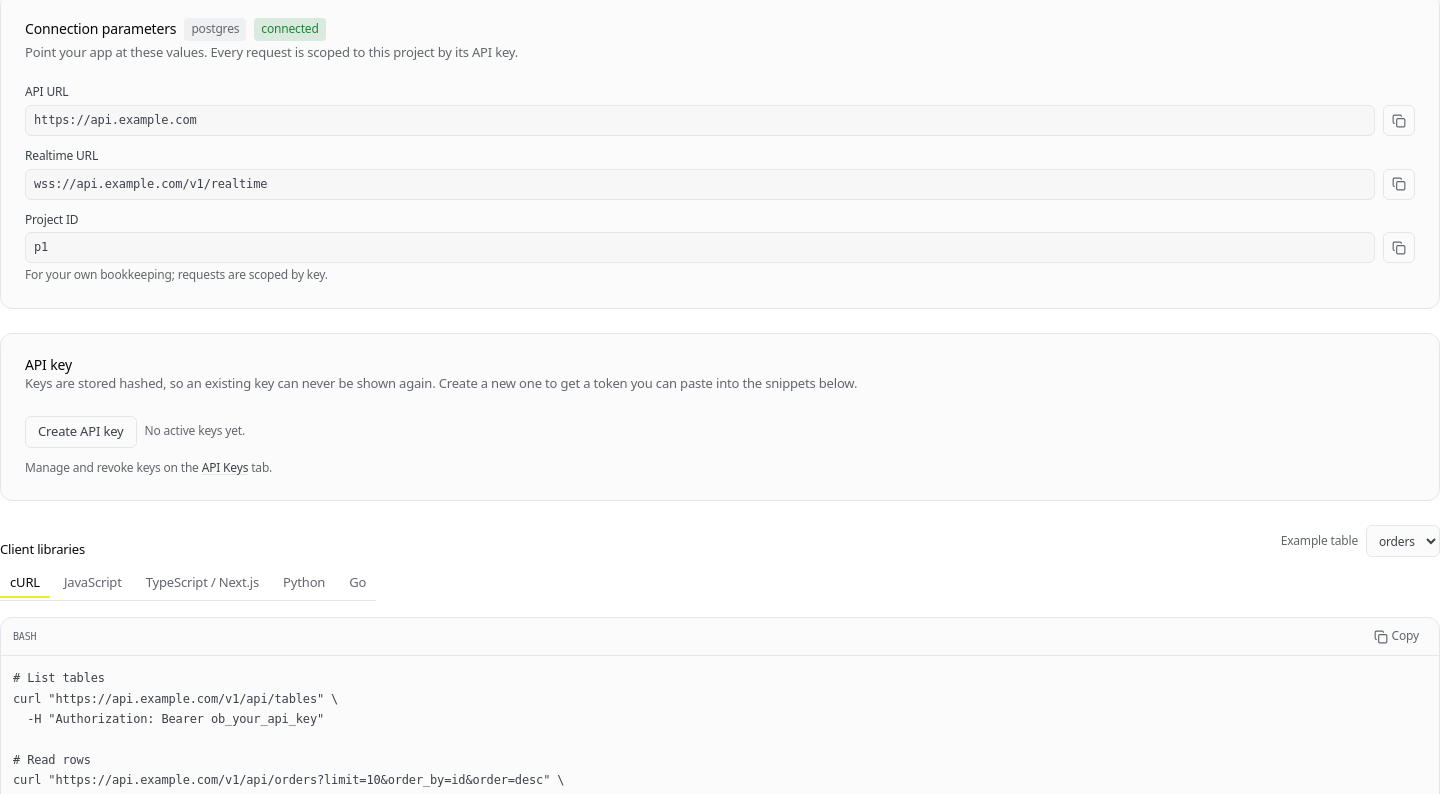
ConnectPanel › lets the user pick which table the snippets use
Select "users" in the dropdown labelled "Example table": (1403, 541) [1366, 525, 1439, 557]
(page scrolled)
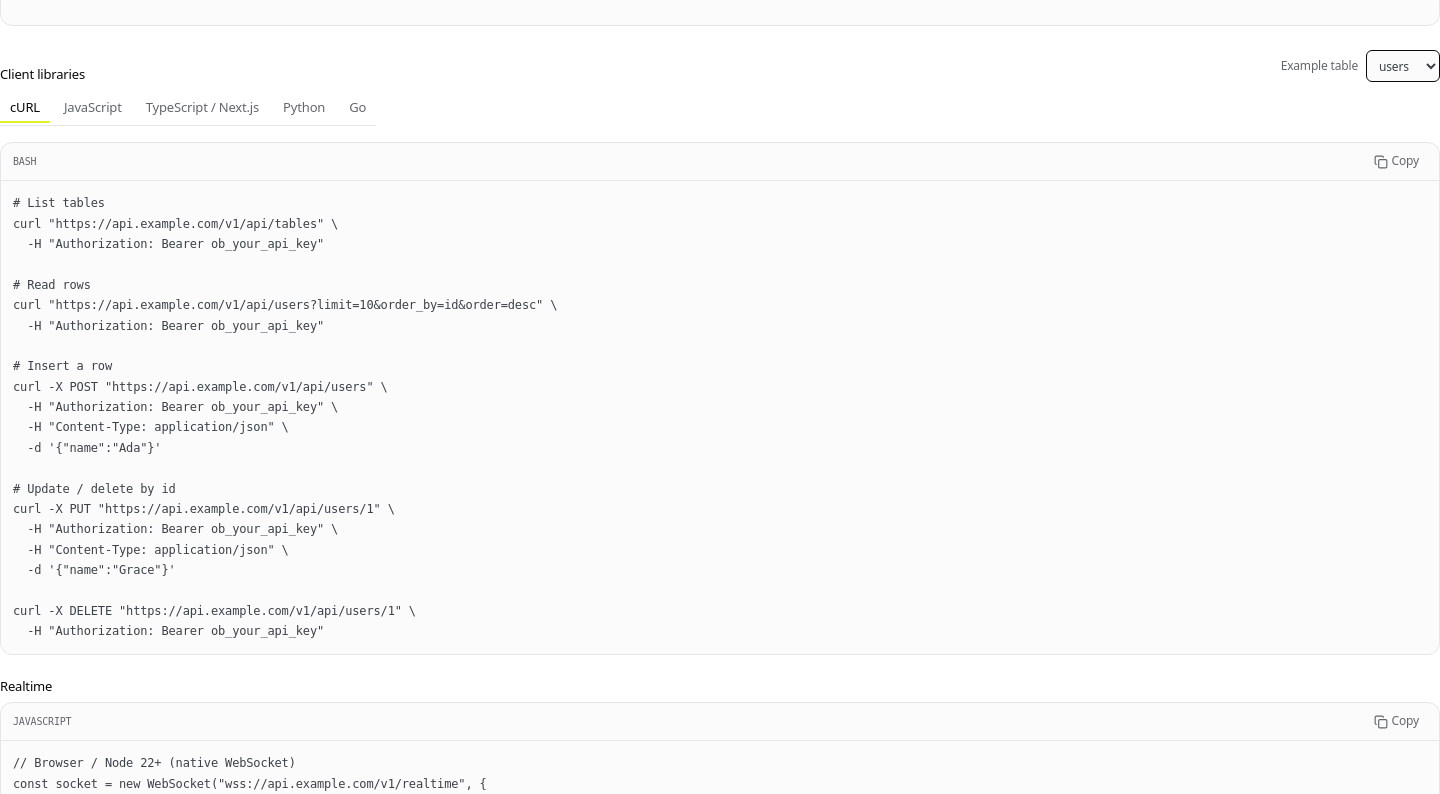
expect the panel shows "/v1/api/users": met, box [13, 196, 557, 638]
